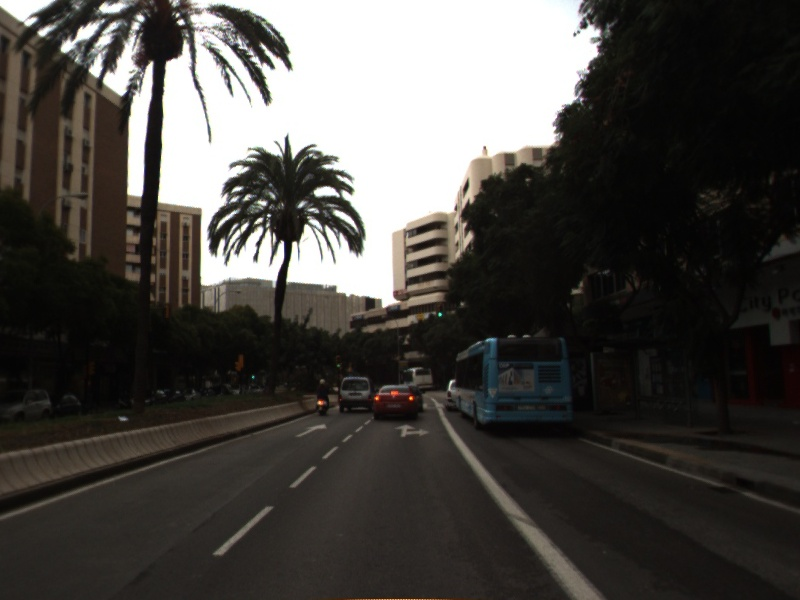STRAIGHT: (292, 422, 329, 439)
STRAIGHT_RIGHT: (392, 422, 432, 439)
